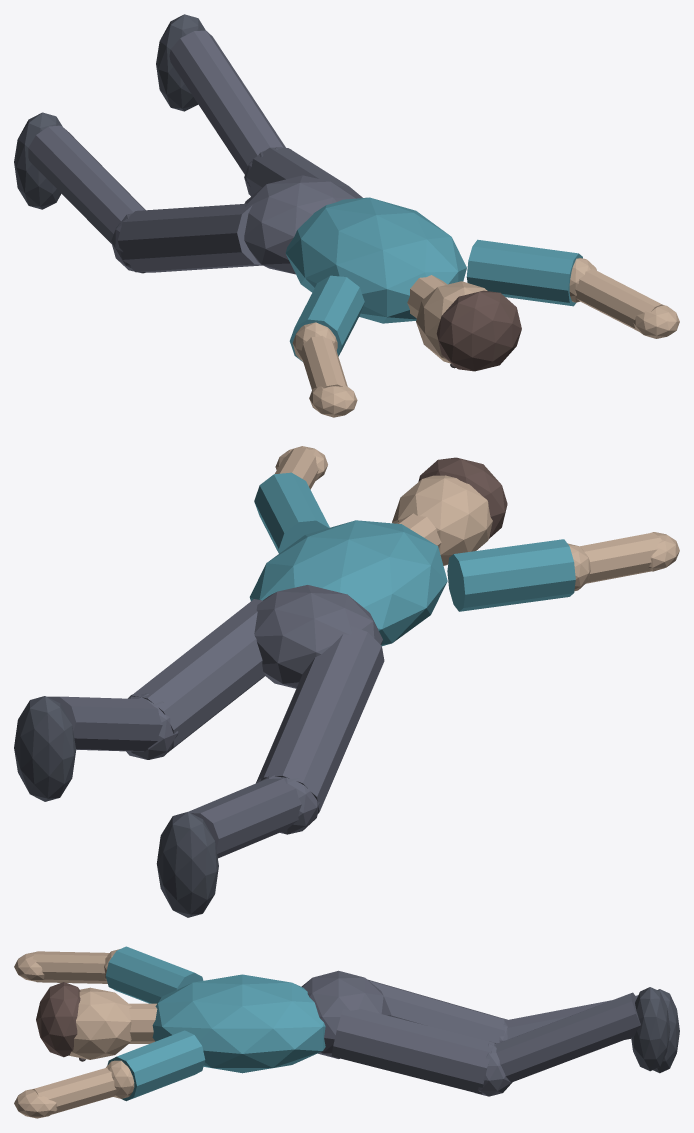
3 views of the same model, one above another, from view 1: azimuth 30°, elevation 25°; view 2: azimuth 150°, elevation 25°; view 3: azimuth 270°, elevation 25° (orthographic). The views are drawn at different scales.
Parts seen in each view (by area): view 1: world; view 2: world; view 3: world.
Part boxes in pixels (x1,y1,x2,y2): world: [14, 14, 679, 417]; world: [14, 446, 679, 917]; world: [14, 946, 679, 1118].
Bounding box in the file's own units: 1.17 × 0.5125 × 2.14.
